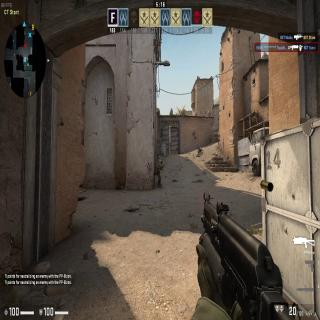CT-Body: (157, 160, 162, 186)
CT-Head: (160, 161, 162, 165)
